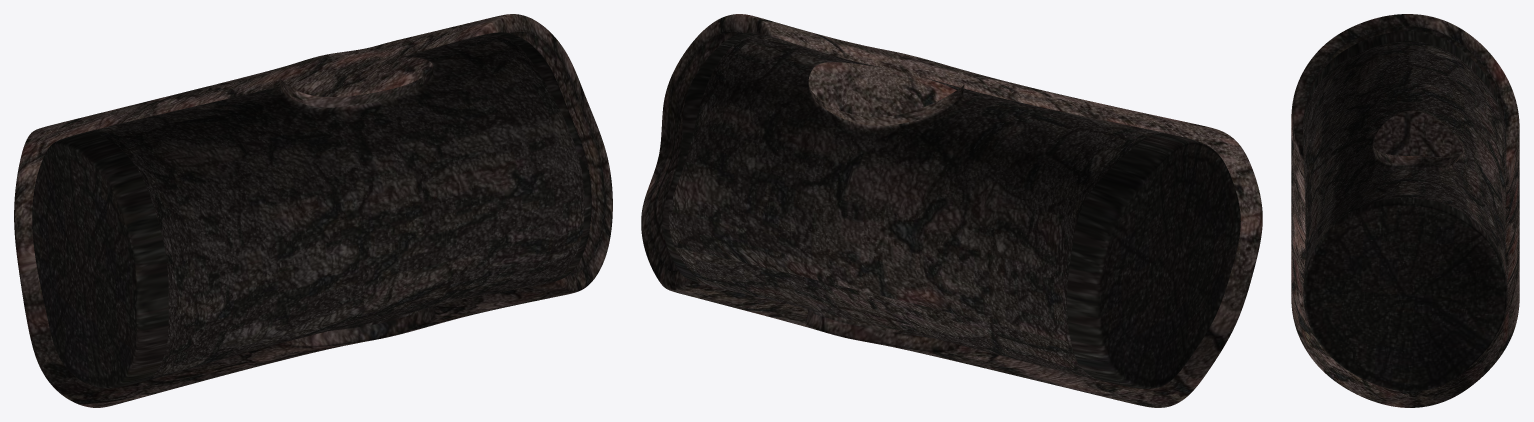
File: log.draco.glb
The picture shows the model from 3 angles, left to right: view 1: azimuth 30°, elevation 25°; view 2: azimuth 150°, elevation 25°; view 3: azimuth 270°, elevation 25°; orthographic projection. The views are drawn at different scales.
Parts seen in each view (by area): view 1: Aquarium_Log; view 2: Aquarium_Log; view 3: Aquarium_Log.
Boxes of the visible parts, x1,y1,x2,y2 form: Aquarium_Log: [14, 14, 612, 407]; Aquarium_Log: [641, 14, 1262, 407]; Aquarium_Log: [1291, 14, 1519, 407].
Size of the model in its own units: 21.91 by 10.99 by 10.98.
1 material, 1 textured.
